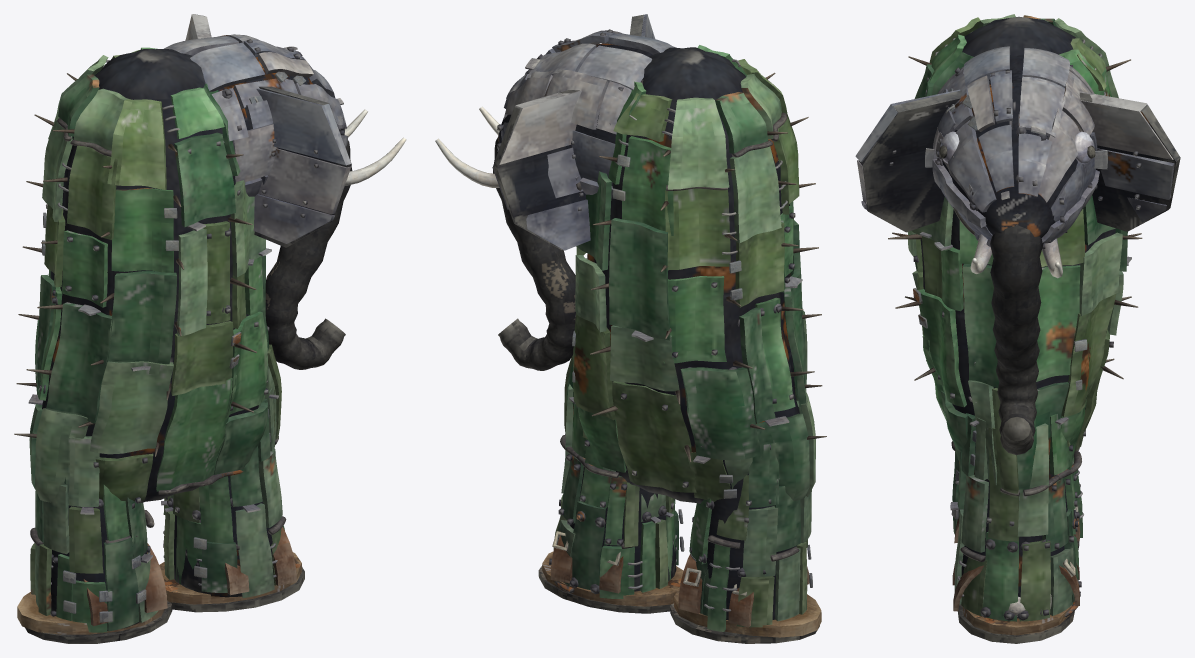
The picture shows the model from 3 angles, left to right: view 1: azimuth 30°, elevation 25°; view 2: azimuth 150°, elevation 25°; view 3: azimuth 270°, elevation 25°; orthographic projection.
Visible parts, largest first — view 1: PanelsDEEPGREEN, PanelsSAGE, PanelsCACTUS, PanelsMOSSY, Cactus, PanelsSLATE, PanelsASH, Trunk, PanelsHIDE, Footbeds, Straps, Outsoles (+8 smaller); view 2: PanelsDEEPGREEN, PanelsMOSSY, PanelsSAGE, PanelsCACTUS, Cactus, PanelsASH, Trunk, PanelsSLATE, PanelsHIDE, Ears, Footbeds, Legs (+10 smaller); view 3: PanelsCACTUS, PanelsMOSSY, PanelsHIDE, PanelsSAGE, Ears, PanelsDEEPGREEN, Trunk, PanelsASH, PanelsSLATE, Cactus, Head, Rivets (+10 smaller).
Boxes of the visible parts, x1=… form: PanelsDEEPGREEN: x1=29, y1=74, x2=270, y2=631; PanelsSAGE: x1=35, y1=55, x2=282, y2=622; PanelsCACTUS: x1=38, y1=47, x2=284, y2=632; PanelsMOSSY: x1=30, y1=50, x2=281, y2=615; Cactus: x1=42, y1=49, x2=258, y2=502; PanelsSLATE: x1=190, y1=39, x2=351, y2=196; PanelsASH: x1=185, y1=14, x2=351, y2=214; Trunk: x1=265, y1=140, x2=352, y2=369; PanelsHIDE: x1=164, y1=34, x2=347, y2=243; Footbeds: x1=17, y1=552, x2=301, y2=634; Straps: x1=83, y1=527, x2=296, y2=626; Outsoles: x1=25, y1=567, x2=304, y2=643; PanelsDEEPGREEN: x1=562, y1=92, x2=809, y2=615; PanelsMOSSY: x1=553, y1=59, x2=807, y2=627; PanelsSAGE: x1=558, y1=74, x2=815, y2=621; PanelsCACTUS: x1=572, y1=45, x2=795, y2=631; Cactus: x1=587, y1=47, x2=799, y2=503; PanelsASH: x1=499, y1=30, x2=631, y2=164; Trunk: x1=493, y1=137, x2=575, y2=370; PanelsSLATE: x1=501, y1=14, x2=674, y2=250; PanelsHIDE: x1=492, y1=43, x2=651, y2=209; Ears: x1=493, y1=14, x2=643, y2=249; Footbeds: x1=542, y1=551, x2=821, y2=637; Legs: x1=570, y1=467, x2=796, y2=620; PanelsCACTUS: x1=918, y1=34, x2=1111, y2=621; PanelsMOSSY: x1=916, y1=17, x2=1116, y2=621; PanelsHIDE: x1=861, y1=48, x2=1174, y2=247; PanelsSAGE: x1=907, y1=14, x2=1123, y2=615; Ears: x1=859, y1=90, x2=1180, y2=232; PanelsDEEPGREEN: x1=914, y1=15, x2=1127, y2=602; Trunk: x1=990, y1=213, x2=1043, y2=454; PanelsASH: x1=857, y1=66, x2=1173, y2=211; PanelsSLATE: x1=855, y1=46, x2=1166, y2=240; Cactus: x1=920, y1=16, x2=1115, y2=415; Head: x1=942, y1=55, x2=1090, y2=237; Rivets: x1=889, y1=65, x2=1141, y2=620.
Size of the model in its own units: 2.83 by 4.01 by 2.13.
26 materials, 26 textured.
